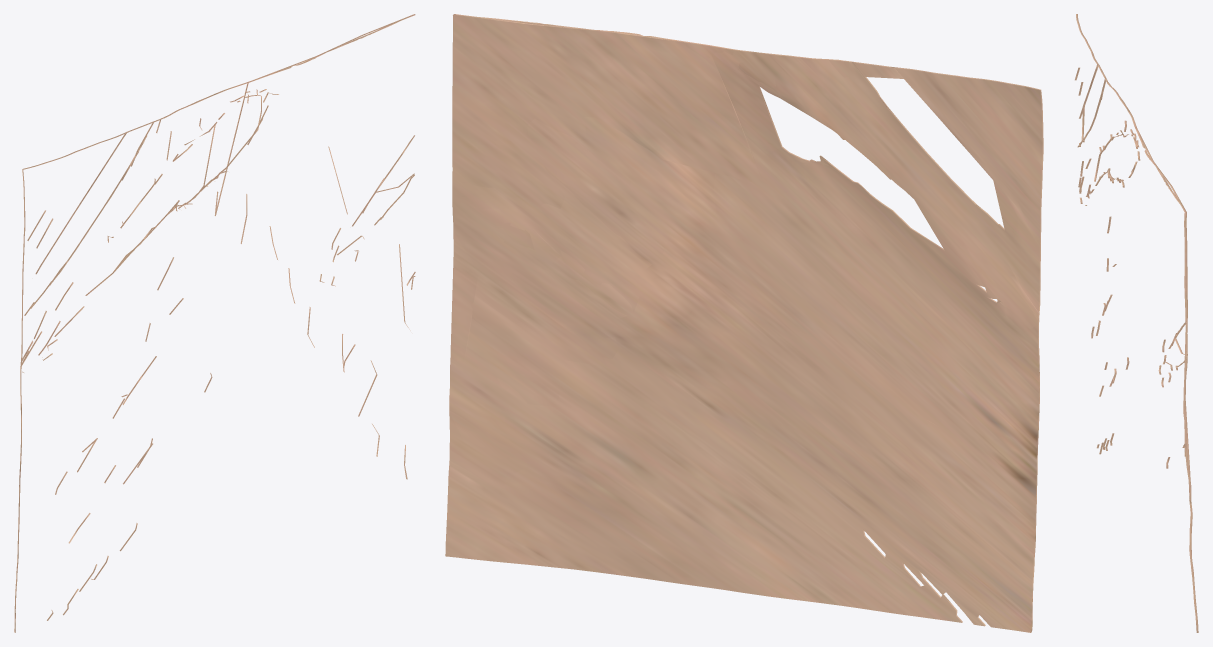
The picture shows the model from 3 angles, left to right: view 1: azimuth 30°, elevation 25°; view 2: azimuth 150°, elevation 25°; view 3: azimuth 270°, elevation 25°; orthographic projection. The views are drawn at different scales.
Size of the model in its own units: 24.26 by 24 by 6.53.
Materials: 1 (1 with a texture image).
